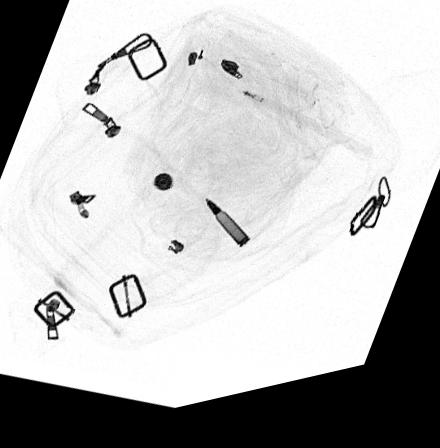Bullet: (205, 207, 251, 260)
